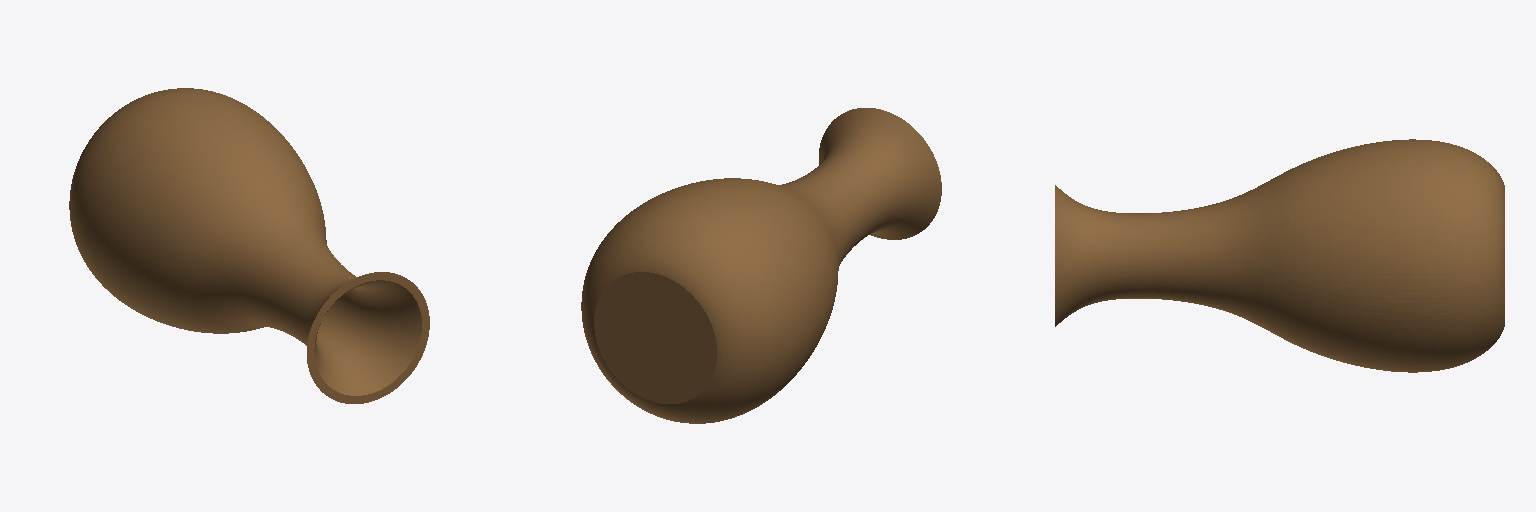
Rendered from vase_03.obj.
The picture shows the model from 3 angles: view 1: azimuth 30°, elevation 25°; view 2: azimuth 150°, elevation 25°; view 3: azimuth 270°, elevation 25°; orthographic projection.
Parts seen in each view (by area): view 1: mesh1, mesh3, mesh2; view 2: mesh1, mesh0; view 3: mesh1.
Part boxes in pixels (left/top/right/bottom): mesh1: left=69, top=88, right=356, bottom=345; mesh3: left=314, top=280, right=421, bottom=395; mesh2: left=307, top=272, right=429, bottom=403; mesh1: left=581, top=108, right=941, bottom=423; mesh0: left=594, top=272, right=716, bottom=403; mesh1: left=1055, top=139, right=1504, bottom=372.
Size of the model in its own units: 0.5191 by 0.5191 by 1.